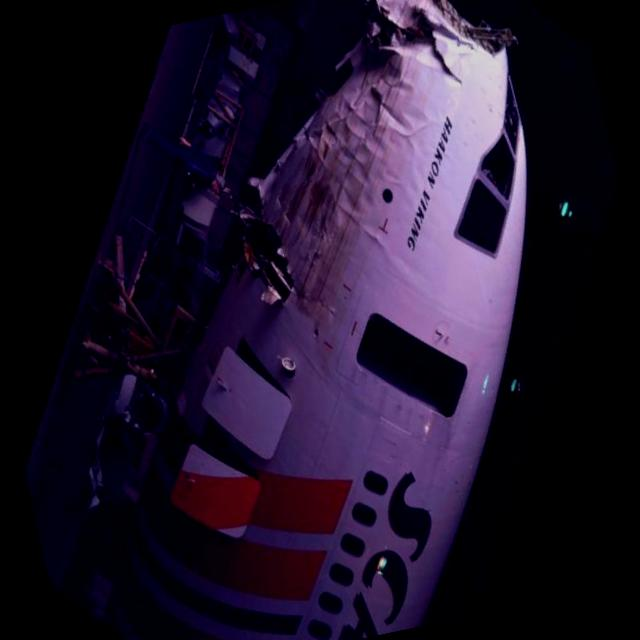crack: (419, 18, 468, 96), (287, 271, 338, 329)
dent: (328, 73, 426, 156), (296, 180, 350, 246)
